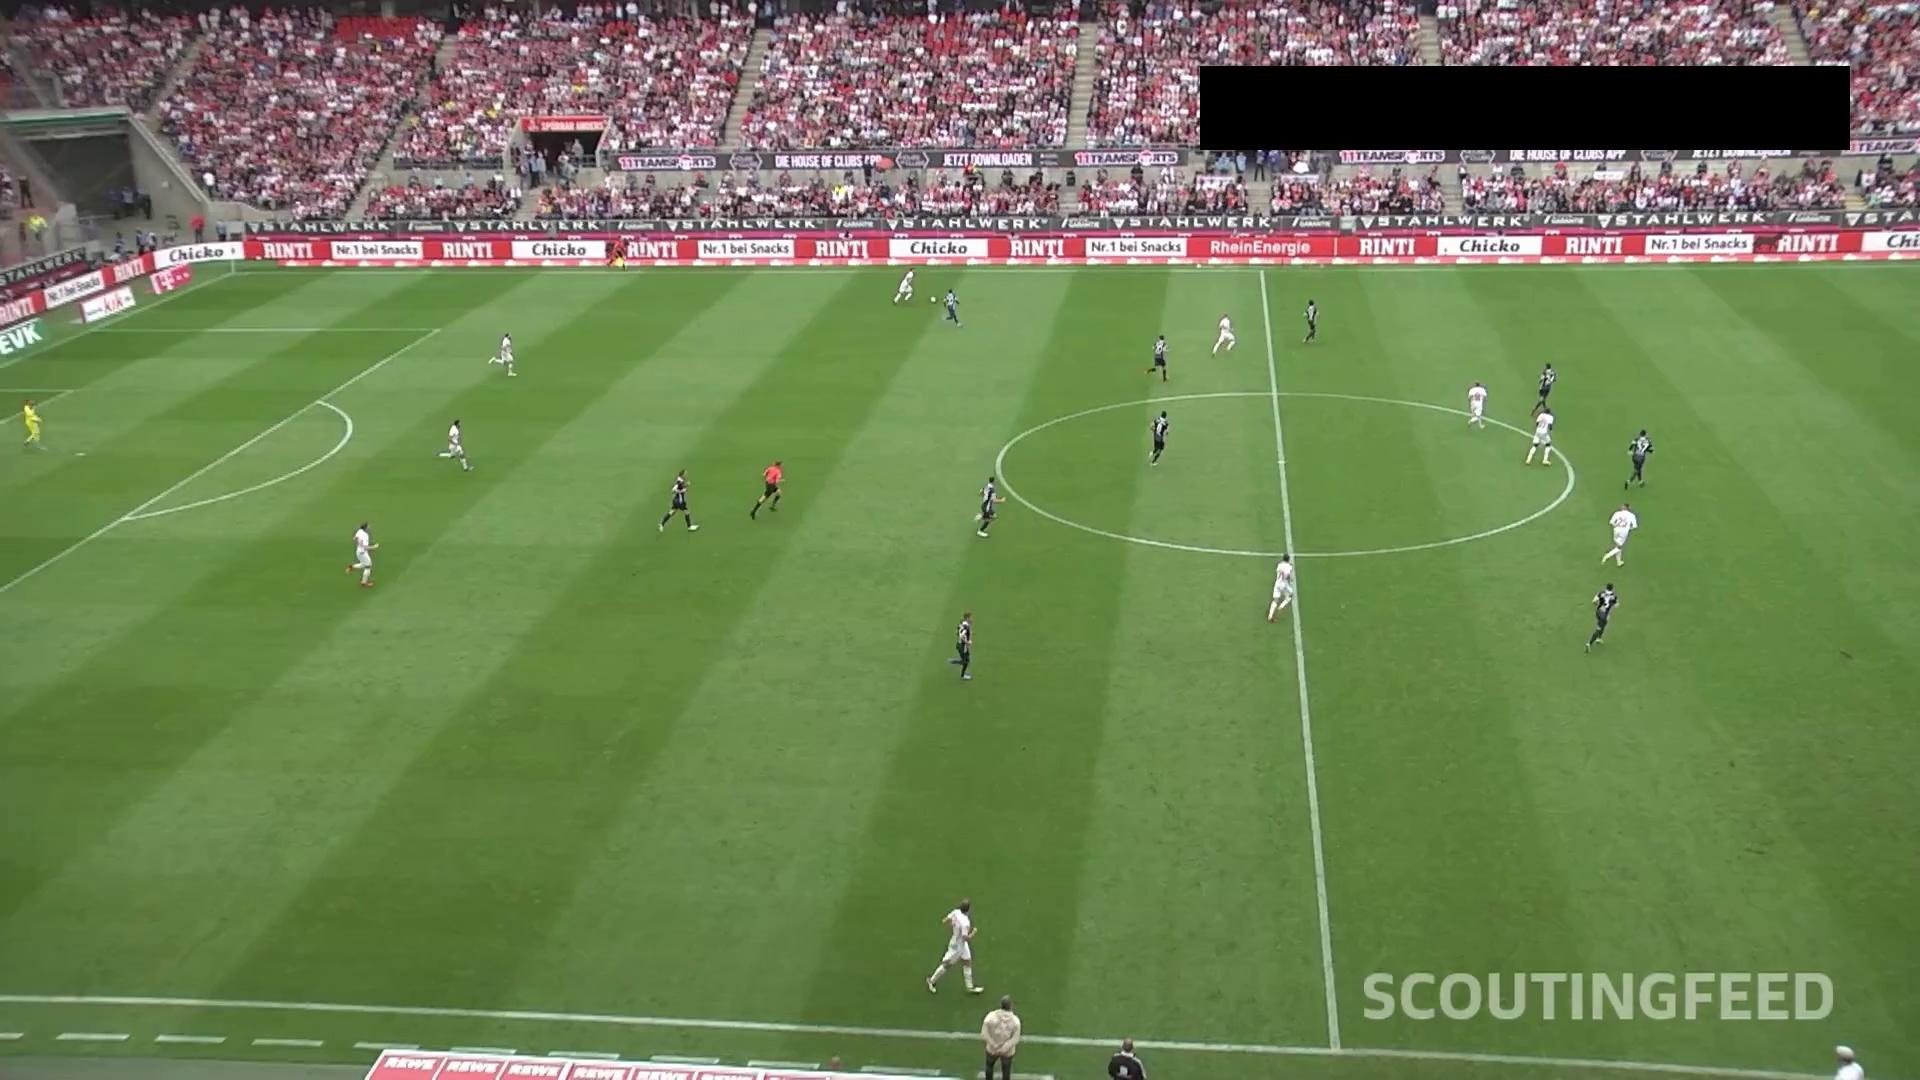Location-of-ball: (927, 290, 947, 311)
